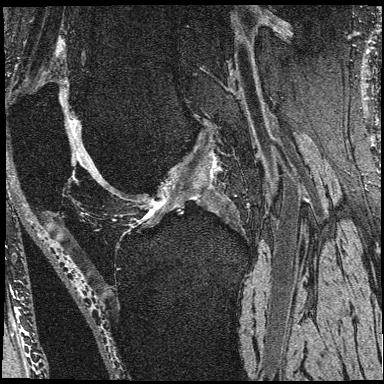SagKneeJointArea: (7, 81, 251, 298)
